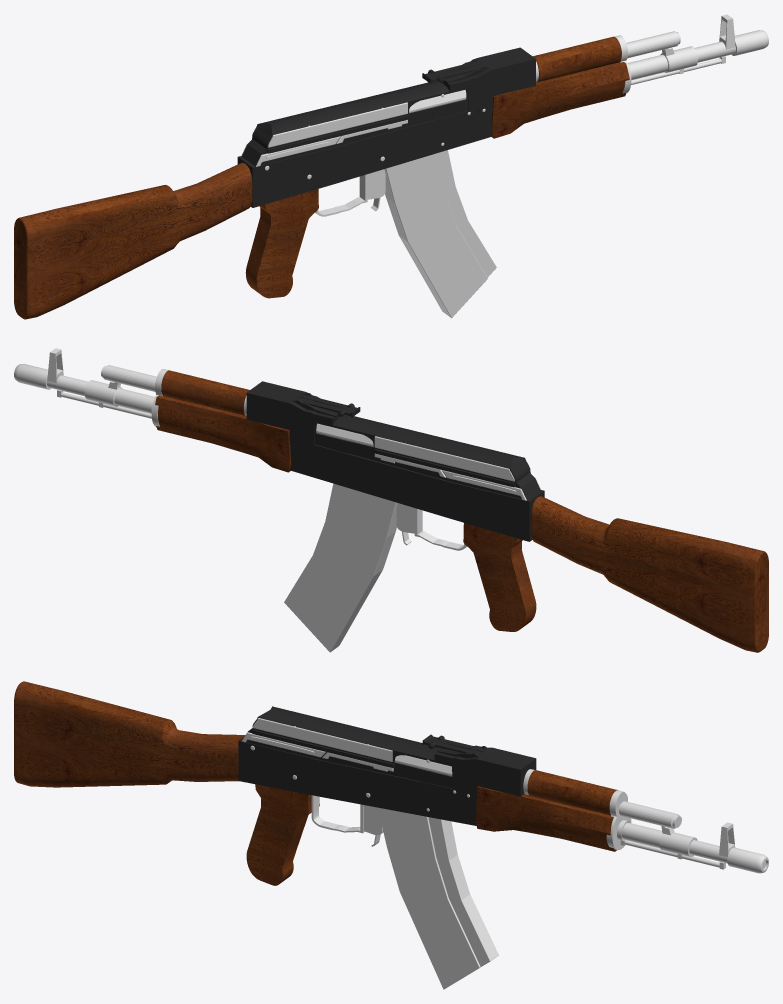
The model's file is AAvtomat_Kalashnikova_Modernizirovanny(AKM).fbx.
3 views of the same model, one above another, from view 1: azimuth 30°, elevation 25°; view 2: azimuth 150°, elevation 25°; view 3: azimuth 330°, elevation 25° (orthographic).
Parts seen in each view (by area): view 1: Cube.068, Cube.053, Cube.055, Cylinder.005, Cube.056, Cylinder.018, Cube.061, Cylinder.019, Cube.066, Cube.065, Cube.059; view 2: Cube.068, Cube.053, Cube.055, Cylinder.005, Cube.056, Cylinder.018, Cube.061, Cylinder.019, Cube.065, Cube.066, Cube.059; view 3: Cube.068, Cube.053, Cube.055, Cylinder.005, Cube.056, Cylinder.018, Cube.061, Cylinder.019, Cube.065, Cube.059, Cube.066, Cylinder.020.
Boxes of the visible parts, box(x1,y1,x2,y2) form: Cube.068: box(237, 47, 535, 207); Cube.053: box(14, 162, 252, 319); Cube.055: box(384, 150, 496, 318); Cylinder.005: box(491, 36, 629, 138); Cube.056: box(245, 189, 318, 298); Cylinder.018: box(628, 30, 768, 79); Cube.061: box(268, 102, 407, 147); Cylinder.019: box(626, 31, 680, 58); Cube.066: box(367, 169, 385, 211); Cube.065: box(315, 174, 367, 216); Cube.059: box(409, 89, 466, 113); Cube.068: box(246, 381, 544, 541); Cube.053: box(530, 496, 768, 652); Cube.055: box(284, 483, 397, 652); Cylinder.005: box(155, 370, 290, 472); Cube.056: box(463, 523, 536, 631); Cylinder.018: box(14, 364, 154, 413); Cube.061: box(374, 436, 526, 481); Cylinder.019: box(101, 365, 156, 391); Cube.065: box(414, 508, 466, 550); Cube.066: box(396, 503, 414, 545); Cube.059: box(316, 423, 373, 446); Cube.068: box(238, 706, 536, 825); Cube.053: box(14, 681, 245, 787); Cube.055: box(378, 807, 498, 989); Cylinder.005: box(475, 770, 617, 851); Cube.056: box(246, 784, 319, 885); Cylinder.018: box(617, 820, 768, 873); Cube.061: box(253, 718, 392, 761); Cylinder.019: box(619, 801, 681, 828); Cube.065: box(311, 795, 364, 833); Cube.059: box(394, 755, 452, 776); Cube.066: box(363, 805, 383, 846); Cylinder.020: box(620, 840, 725, 869).
Size of the model in its own units: 441 by 138 by 19.66.
